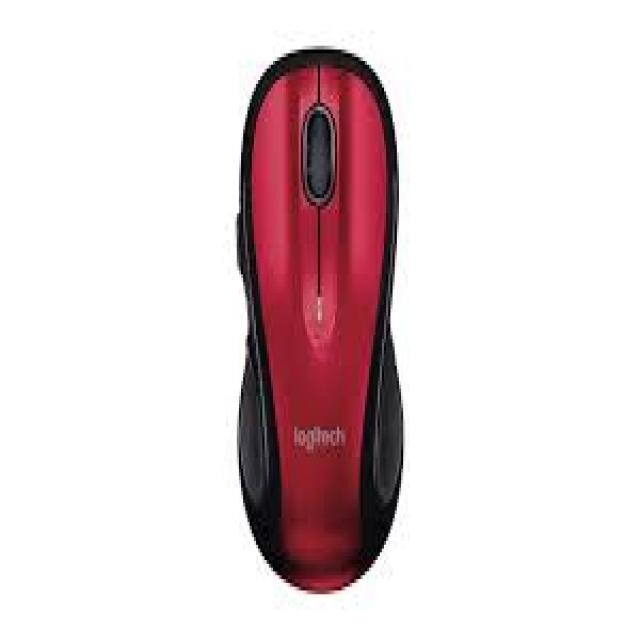others: (160, 34, 454, 594)
